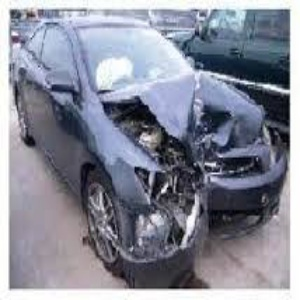bonnet: (134, 85, 264, 143)
bumper: (125, 171, 231, 286)
